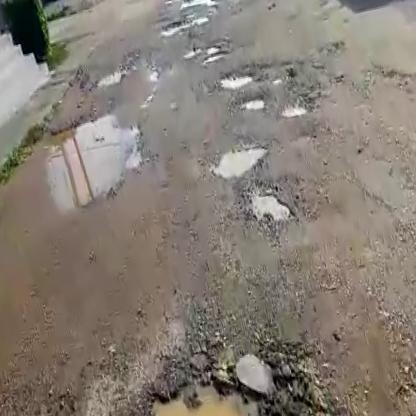pothole: (126, 353, 335, 416), (241, 176, 298, 232), (207, 137, 271, 183), (184, 39, 232, 70), (158, 11, 212, 38), (216, 63, 260, 90), (92, 63, 131, 93), (277, 97, 311, 123), (239, 94, 268, 114)
